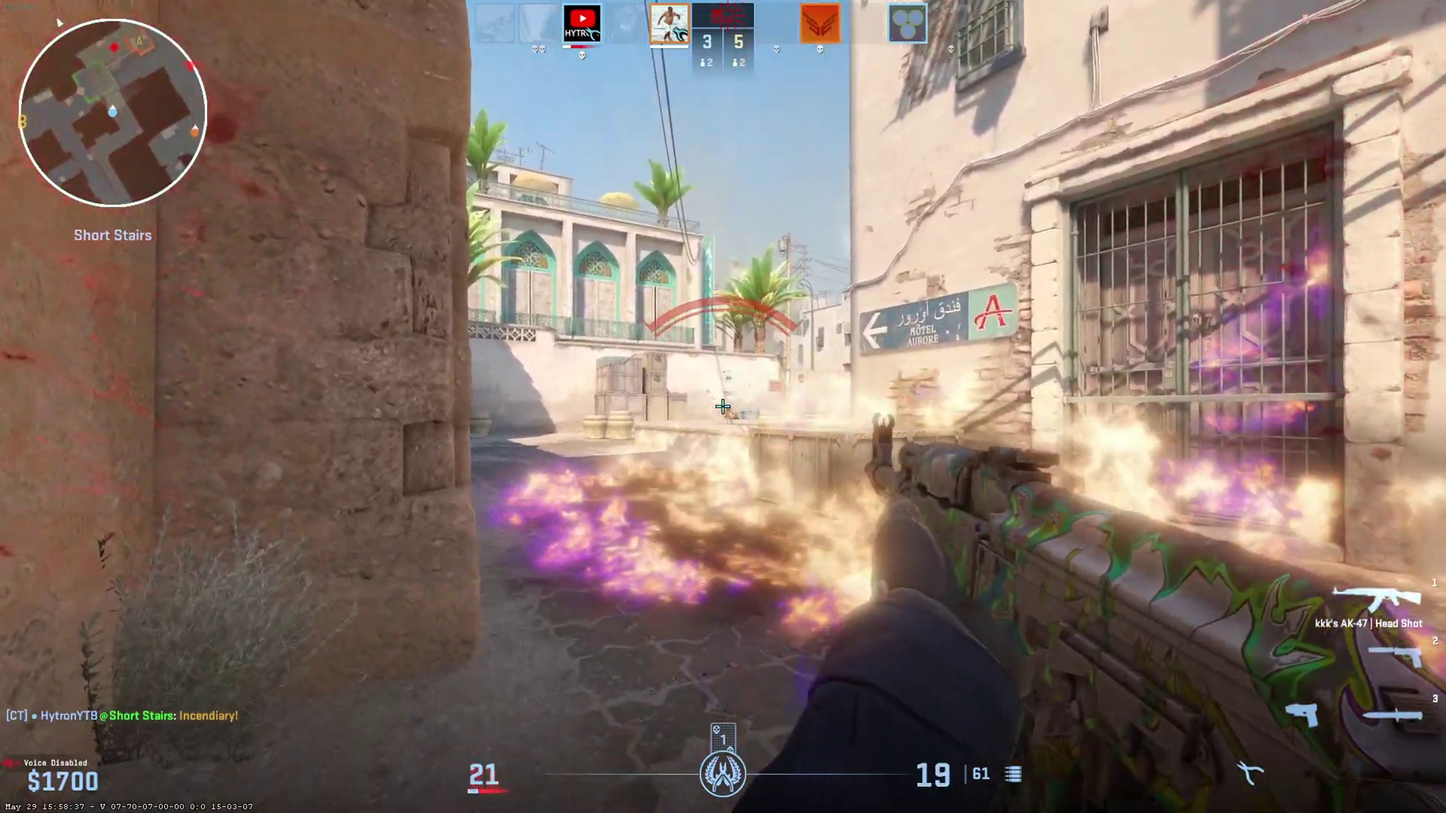Terrorist: (726, 407, 738, 420)
